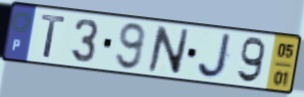3: (68, 18, 102, 65)
9: (114, 21, 147, 73), (235, 37, 268, 85)
J: (196, 32, 235, 81)
N: (146, 24, 192, 77)
T: (39, 13, 68, 60)
